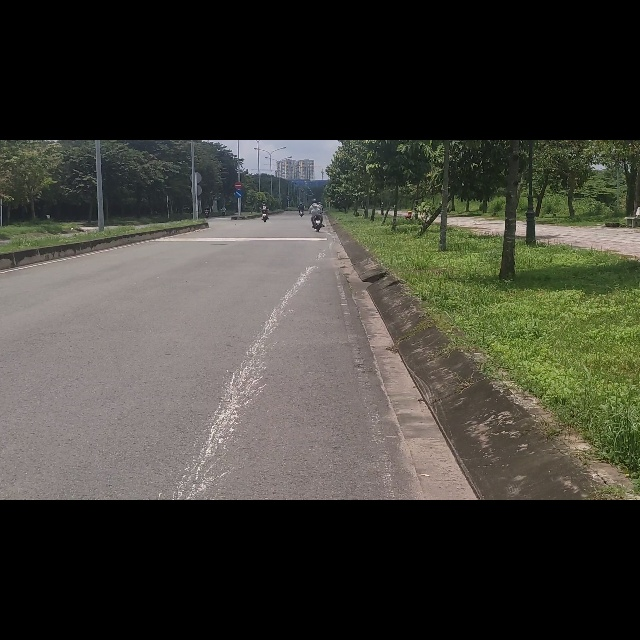bien_cam: (234, 74, 242, 88), (235, 89, 243, 103)
